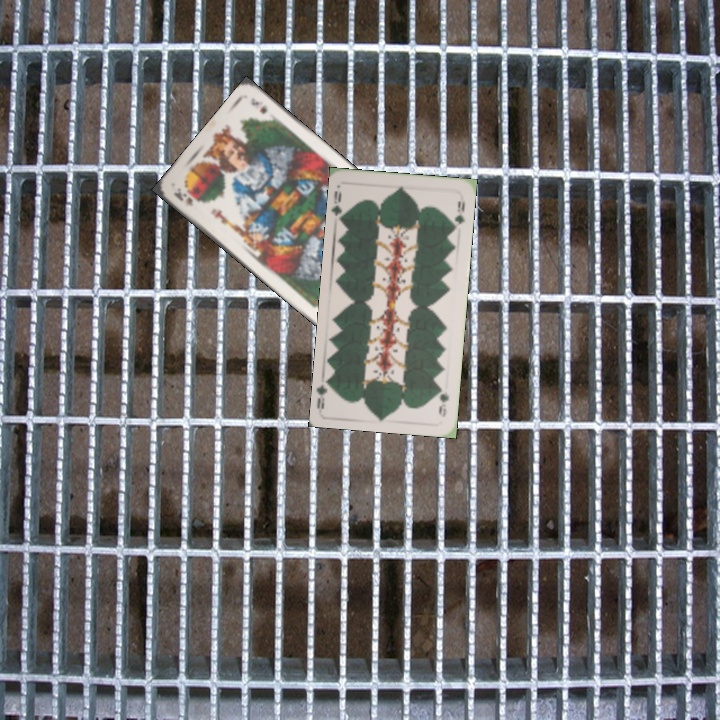G9: (329, 187, 349, 224), (435, 380, 452, 419)
SK: (170, 183, 196, 209)
